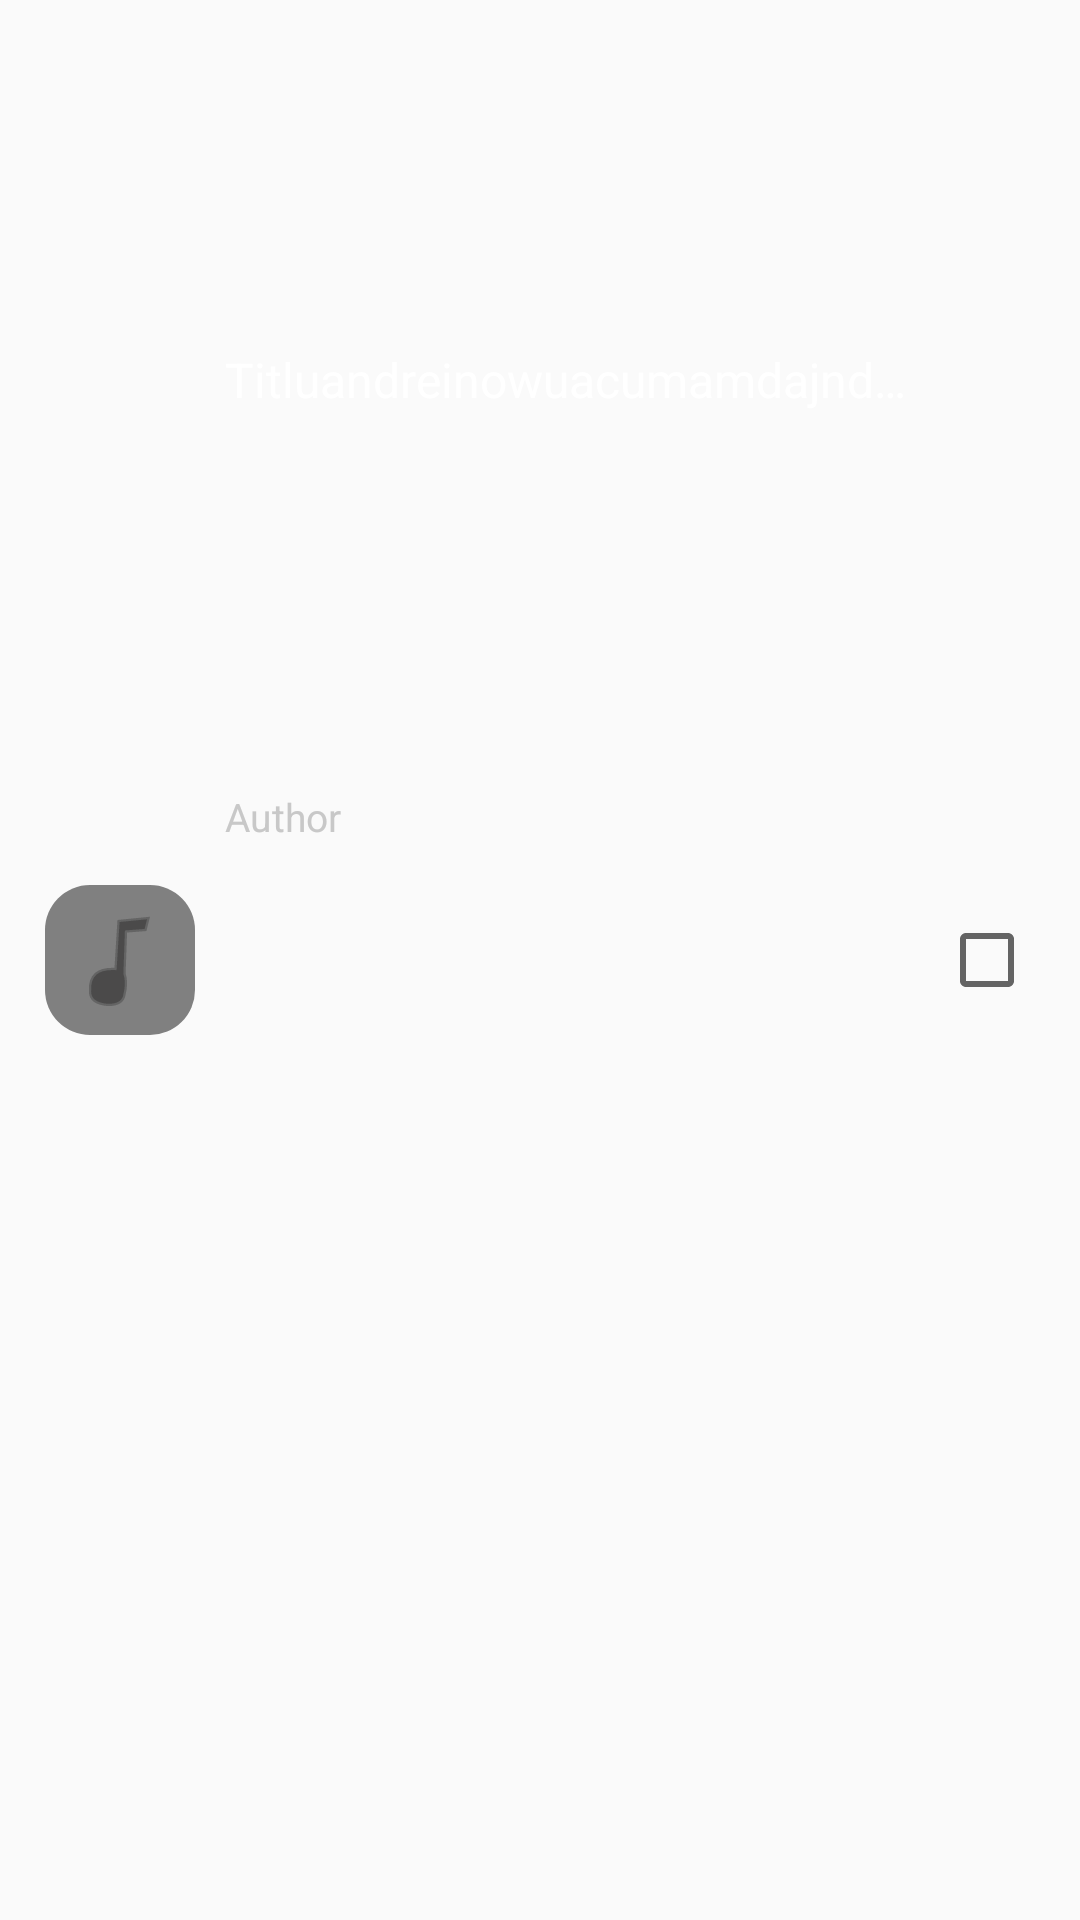

Icons on this 1080px×1920px Android screen, each with its box as (x1, y1, x2, y2):
blank musical note: (45, 885, 195, 1035)
